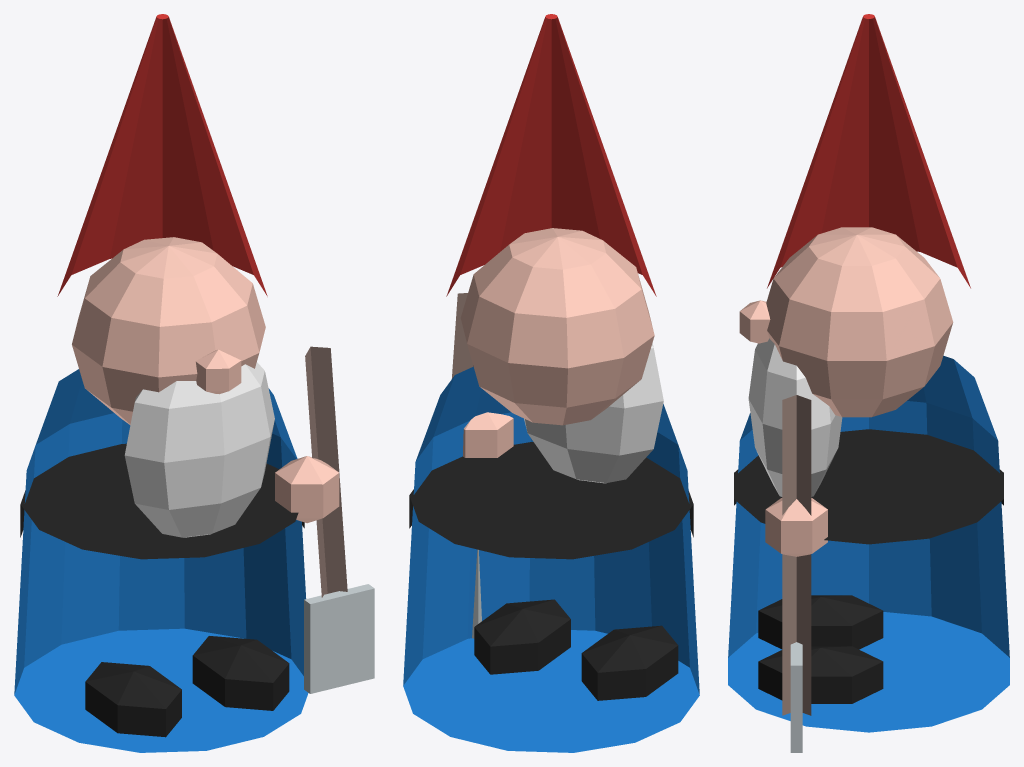
File: tradgardstomte.glb
3 renders of one model, left to right at view 1: azimuth 30°, elevation 25°; view 2: azimuth 150°, elevation 25°; view 3: azimuth 270°, elevation 25°, orthographic. The views are drawn at different scales.
Parts seen in each view (by area): view 1: tradgardstomte; view 2: tradgardstomte; view 3: tradgardstomte.
Part boxes in pixels (left/top/right/bottom): tradgardstomte: left=14, top=14, right=374, bottom=752; tradgardstomte: left=403, top=14, right=699, bottom=752; tradgardstomte: left=728, top=14, right=1009, bottom=752.
Bounding box in the file's own units: 0.28 × 0.605 × 0.234.
